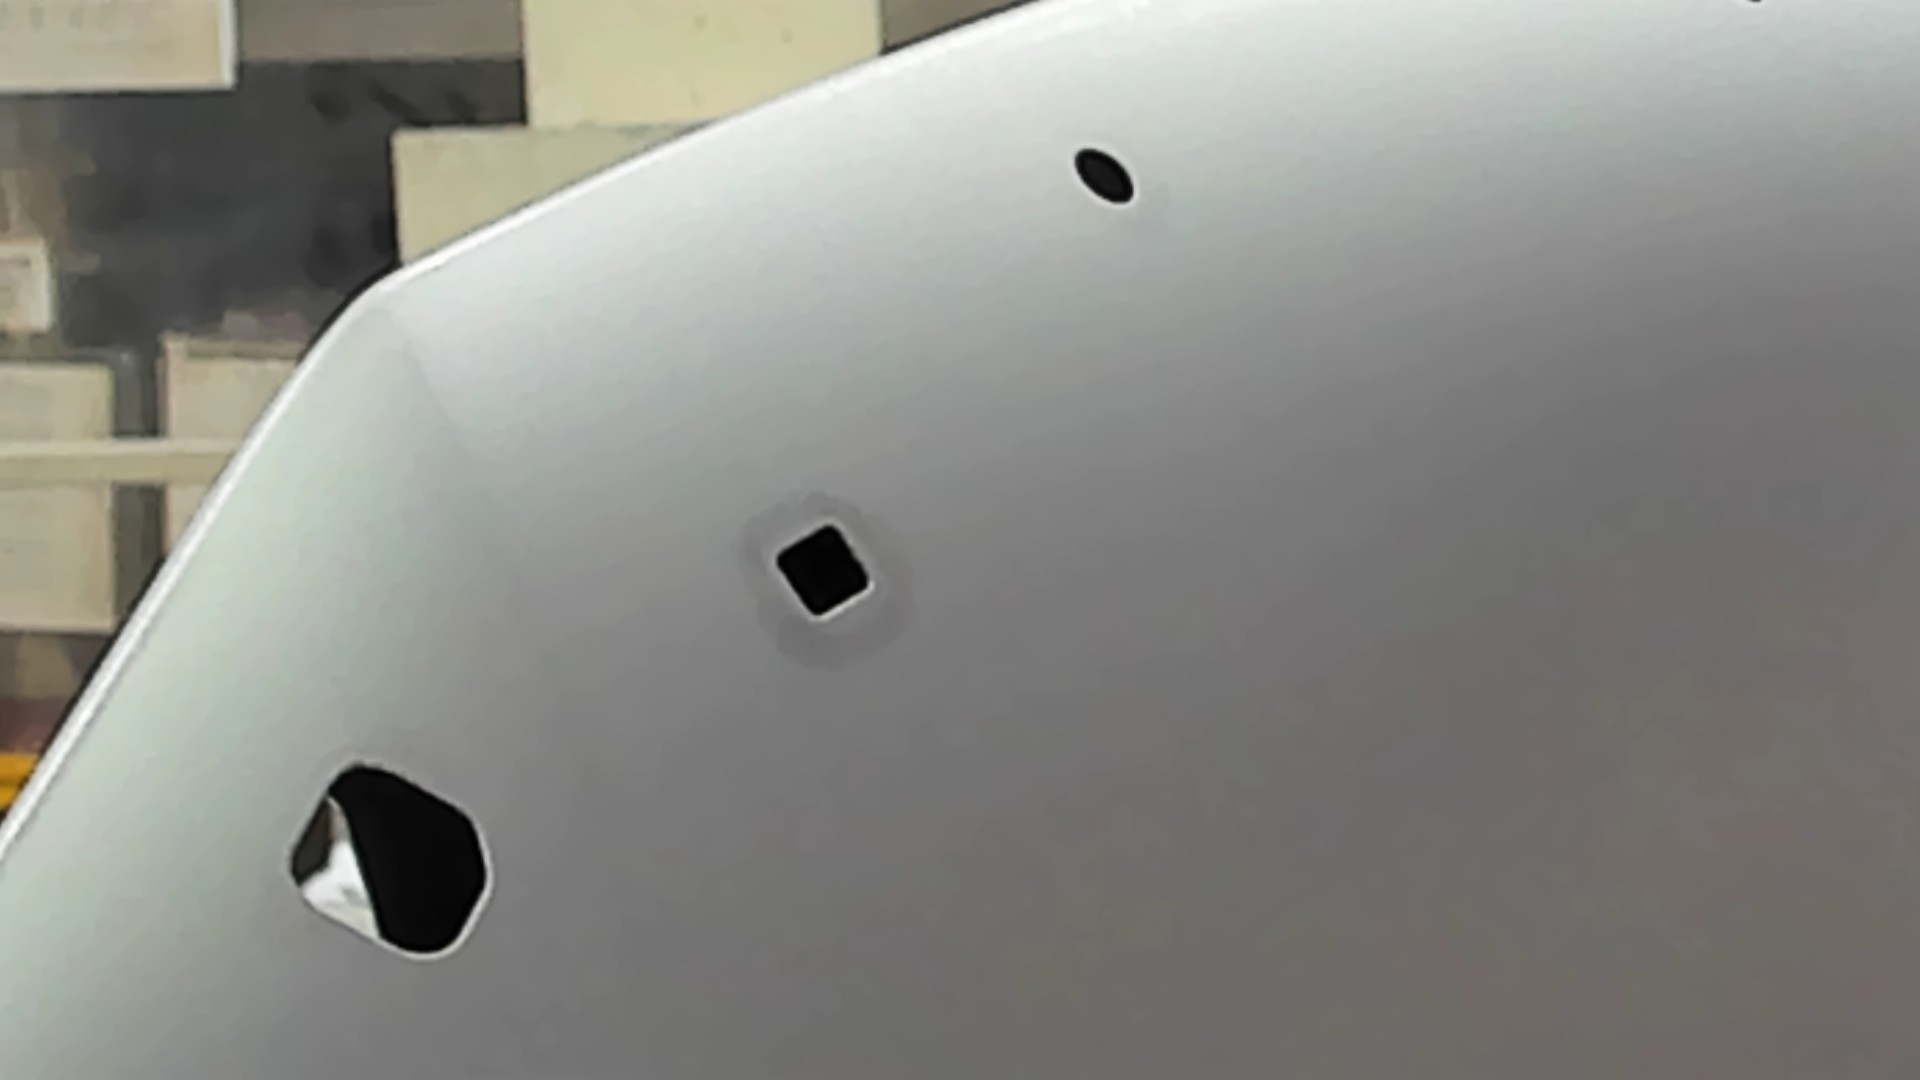capo: (884, 216, 1920, 1080)
chico: (1073, 144, 1137, 206)
grande: (286, 760, 497, 973)
mediano: (767, 514, 880, 629)
